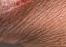plaque psoriasis: (0, 0, 36, 17)
